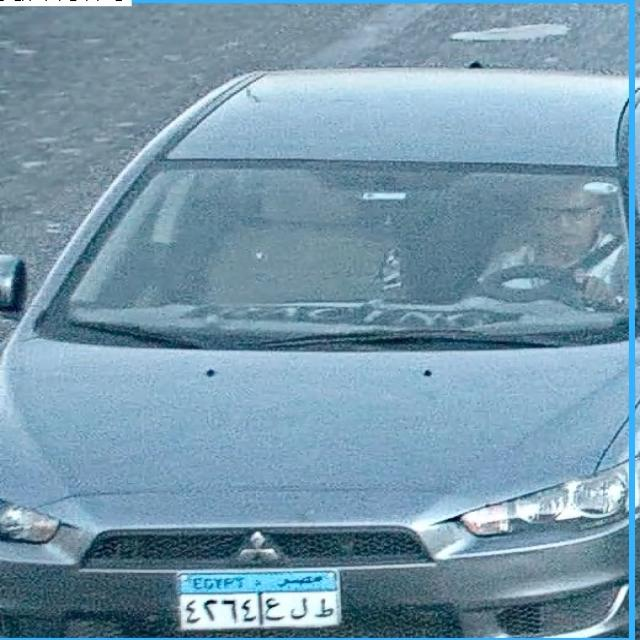windshield: (58, 158, 629, 343)
